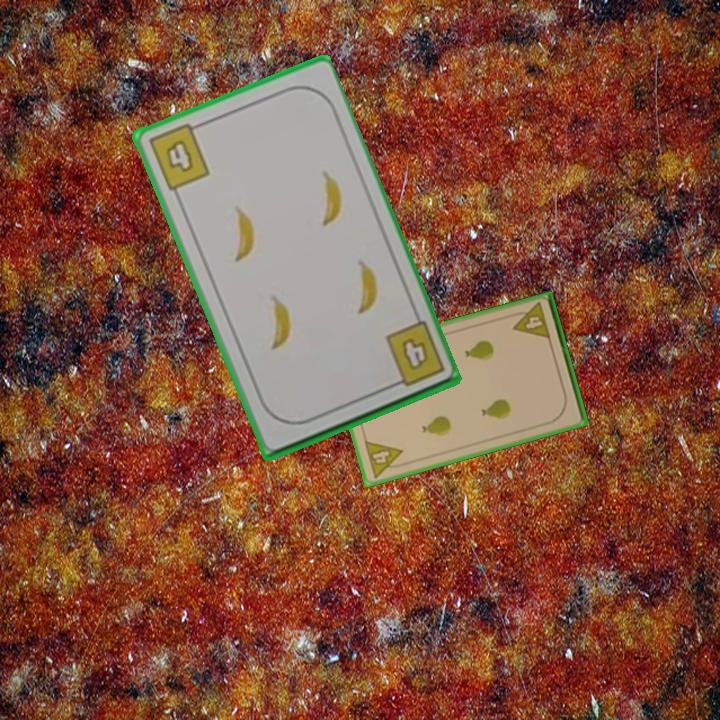4b: (144, 119, 213, 194), (381, 318, 448, 391)
4p: (361, 437, 409, 481), (507, 299, 553, 343)
